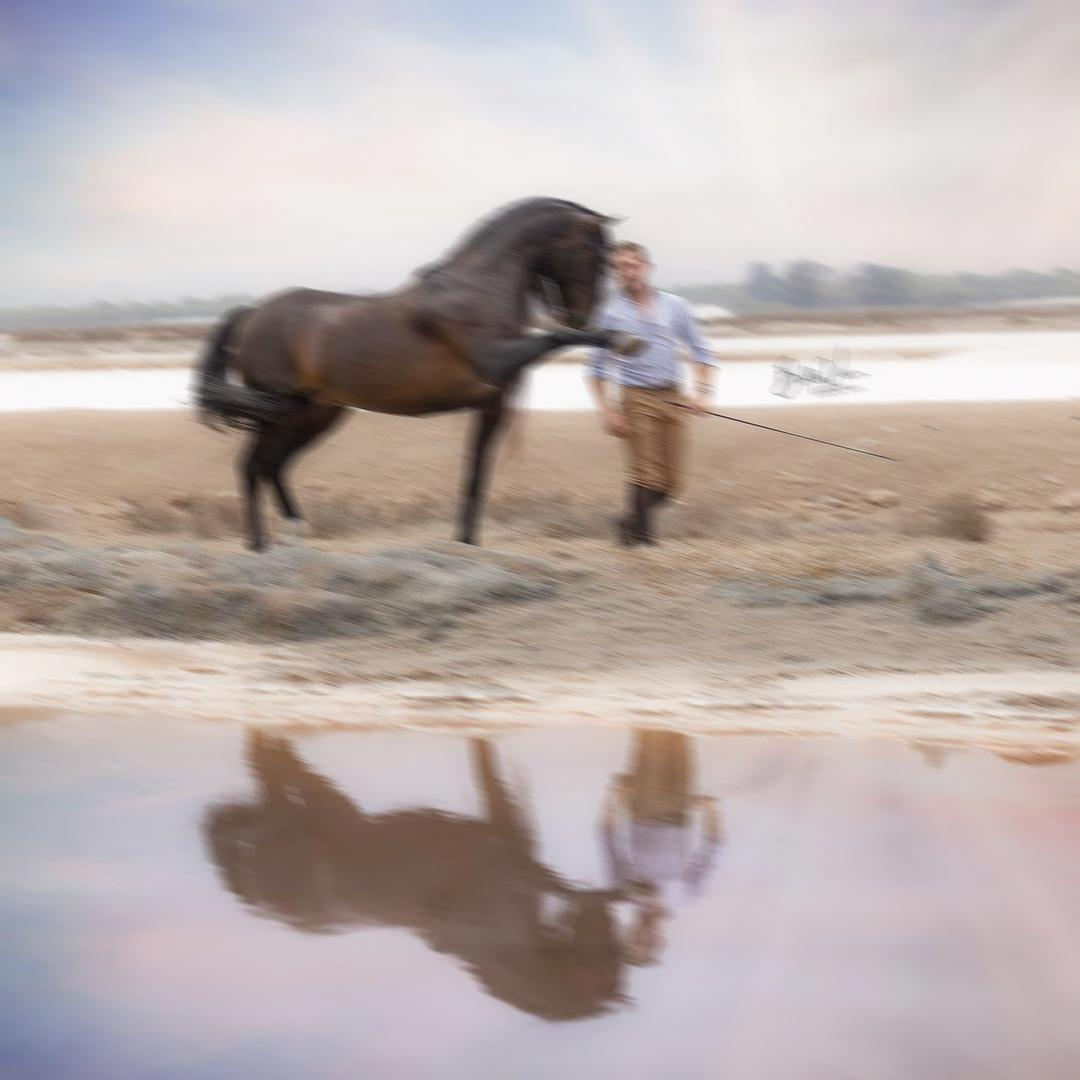horse: (186, 194, 648, 554)
